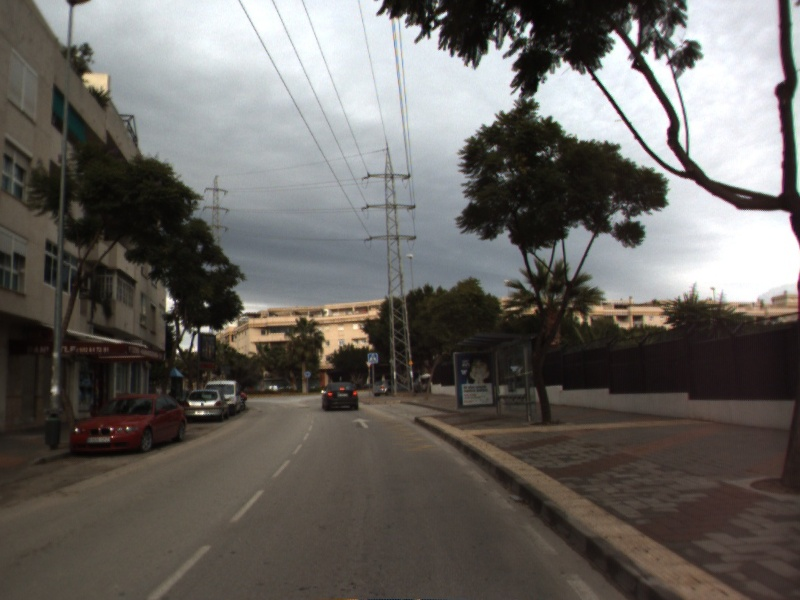STRAIGHT: (350, 415, 374, 430)
